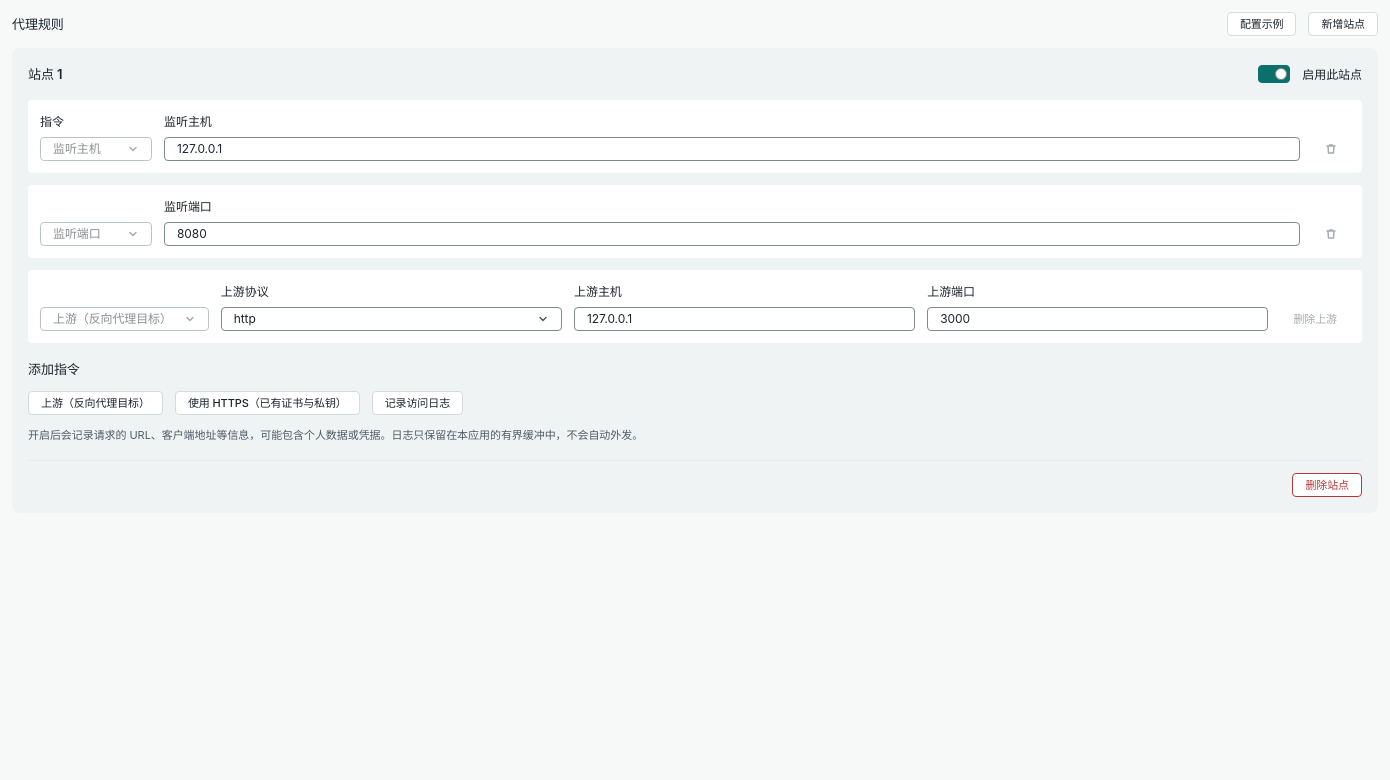
Test case: directive row interaction › adds an upstream row and removes it again from the second row's delete control
Click the button "上游（反向代理目标）" below "添加指令".
click(95, 403)  # box [28, 391, 163, 415]
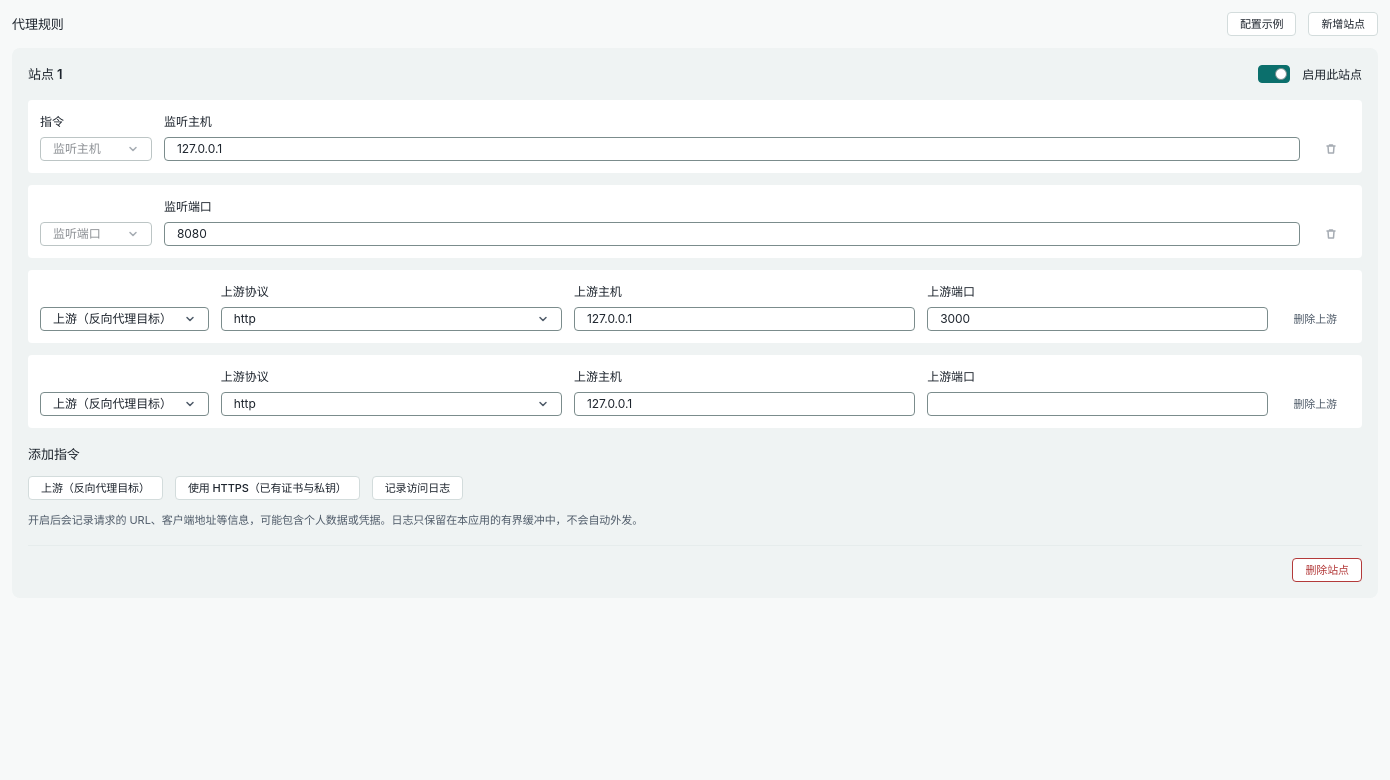
Result: the number of buttons labelled "删除上游 " is 2
Click the button with aria-label "删除上游 2（站点 1）".
click(1315, 404)  # box [1280, 392, 1350, 416]
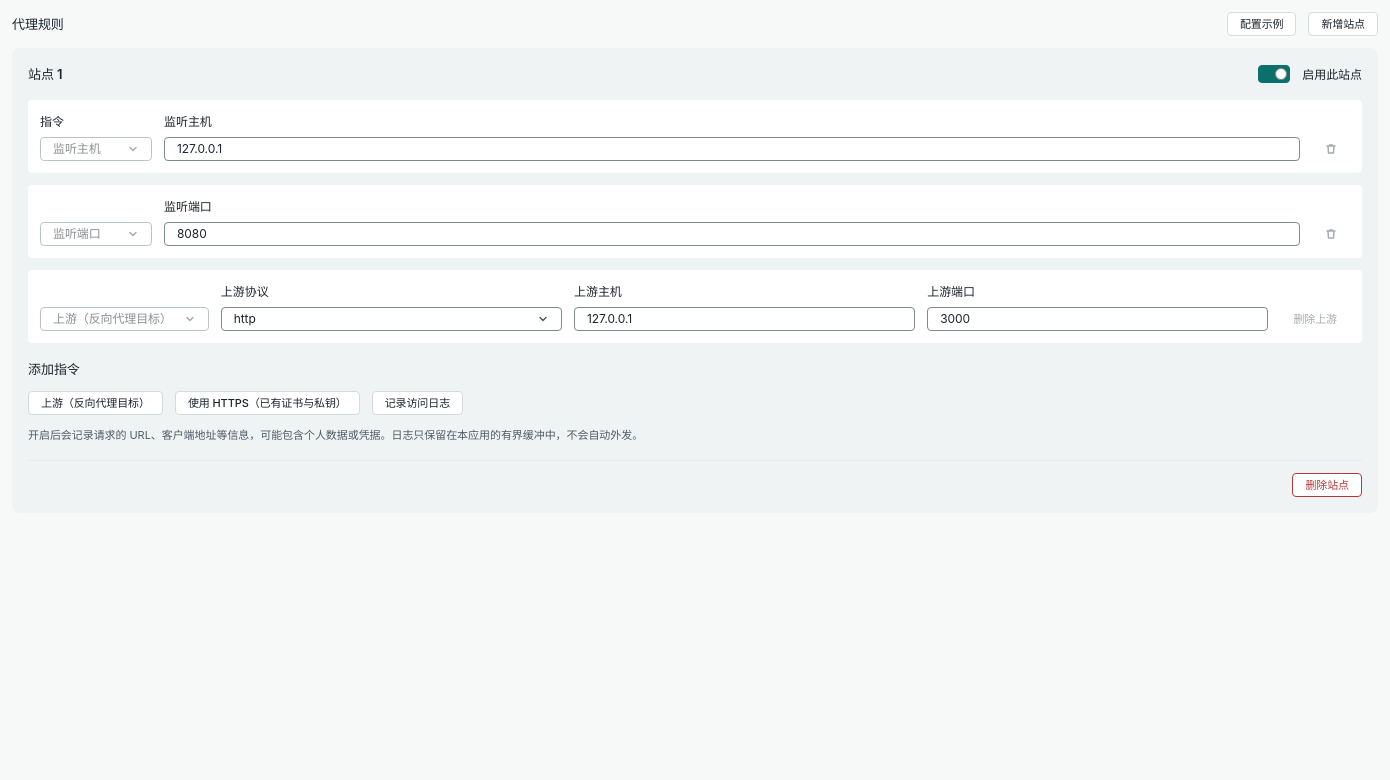
Result: the number of buttons labelled "删除上游 " is 1 at [1280, 307, 1350, 331]
